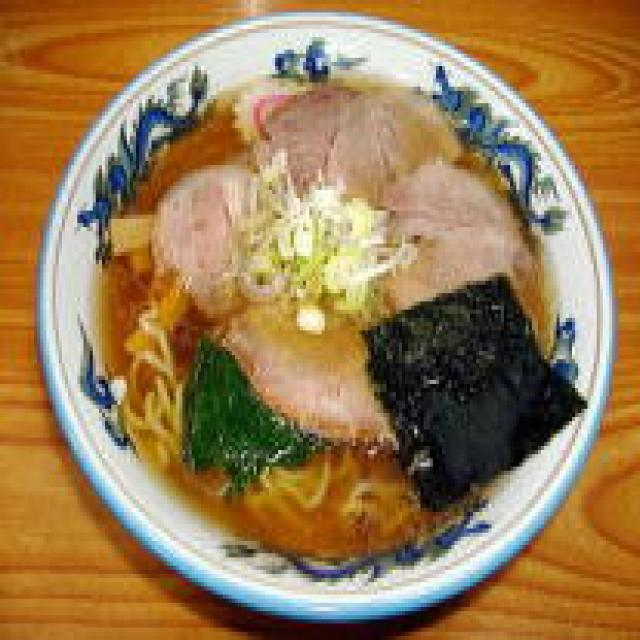面条主食: (43, 12, 609, 620)
